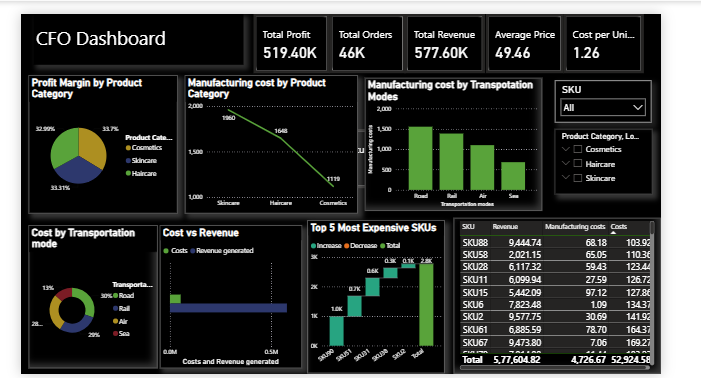

This screenshot's page, from the dashboard's own definition file:
{"tool":"powerbi","page":{"name":"CFO","canvas":[1280,720],"ordinal":1},"visuals":[{"type":"cardVisual","fields":{"Data":["_Measure.Average Price"]},"box":[929,0,155.1,118],"z":0},{"type":"cardVisual","fields":{"Data":["_Measure.Total Manufacturing Cost"]},"box":[527.1,230,241.4,118.6],"z":1000},{"type":"cardVisual","fields":{"Data":["_Measure.Total Revenue"]},"box":[768.4,0,160.5,118],"z":2000},{"type":"cardVisual","fields":{"Data":["_Measure.Total Profit"]},"box":[464.3,0,152.9,118.6],"z":3000},{"type":"textbox","box":[25.7,0,420,101.4],"z":4000},{"type":"slicer","fields":{"Values":["Data Cleaning.Product Category","Data Cleaning.Location","Data Cleaning.Customer demographics"]},"box":[1068.3,230,195,130],"z":5000},{"type":"lineChart","title":"Manufacturing cost by Product Category","fields":{"Category":["Data Cleaning.Product Category"],"Y":["Sum(Data Cleaning.Manufacturing costs)"]},"box":[328.3,121.7,346.7,276.7],"z":6000},{"type":"donutChart","title":"Cost by Transportation mode","fields":{"Y":["Sum(Data Cleaning.Costs)"],"Category":["Data Cleaning.Transportation modes"]},"box":[15,421.7,258.3,286.7],"z":7000},{"type":"pieChart","title":"Profit Margin by Product Category","fields":{"Category":["Data Cleaning.Product Category"],"Y":["_Measure.Profit Margin %"]},"box":[15,121.7,298.3,276.7],"z":8000},{"type":"waterfallChart","title":"Top 5 Most Expensive SKUs ","fields":{"Category":["Data Cleaning.SKU"],"Y":["Sum(Data Cleaning.Costs)"]},"box":[573.3,411.7,275,306.7],"z":9000},{"type":"lineStackedColumnComboChart","title":"Manufacturing cost by Transpotation Modes","fields":{"Y":["Sum(Data Cleaning.Manufacturing costs)"],"Category":["Data Cleaning.Transportation modes"]},"box":[688.3,126.7,355,266.7],"z":10000},{"type":"cardVisual","fields":{"Data":["_Measure.Cost per Unit Sold"]},"box":[1084.1,0,160.5,118],"z":11000},{"type":"clusteredBarChart","title":"Cost vs Revenue","fields":{"Y":["Sum(Data Cleaning.Costs)","Sum(Data Cleaning.Revenue generated)"]},"box":[276.7,421.7,285,286.7],"z":12000},{"type":"slicer","fields":{"Values":["Data Cleaning.SKU"]},"box":[1066.7,131.7,193.3,85],"z":13000},{"type":"tableEx","fields":{"Values":["Data Cleaning.SKU","Sum(Data Cleaning.Revenue generated)","Sum(Data Cleaning.Manufacturing costs)","Sum(Data Cleaning.Costs)"]},"box":[865,408.3,415,311.7],"z":14000},{"type":"cardVisual","fields":{"Data":["_Measure.Total Orders"]},"box":[617.1,0,151.4,118.6],"z":15000}]}

Visuals, with their boxes on the page's 1280x720 design canvas (x1, y1, x2, y2). These are canvas units, not pixel positions in the 701x378 screenshot, which may show the page scaled, cropped or inside an application window:
cardVisual - _Measure.Average Price: {"left": 929, "top": 0, "right": 1084, "bottom": 118}
cardVisual - _Measure.Total Manufacturing Cost: {"left": 527, "top": 230, "right": 768, "bottom": 349}
cardVisual - _Measure.Total Revenue: {"left": 768, "top": 0, "right": 929, "bottom": 118}
cardVisual - _Measure.Total Profit: {"left": 464, "top": 0, "right": 617, "bottom": 119}
textbox: {"left": 26, "top": 0, "right": 446, "bottom": 101}
slicer - Data Cleaning.Product Category x Data Cleaning.Location: {"left": 1068, "top": 230, "right": 1263, "bottom": 360}
"Manufacturing cost by Product Category" lineChart: {"left": 328, "top": 122, "right": 675, "bottom": 398}
"Cost by Transportation mode" donutChart: {"left": 15, "top": 422, "right": 273, "bottom": 708}
"Profit Margin by Product Category" pieChart: {"left": 15, "top": 122, "right": 313, "bottom": 398}
"Top 5 Most Expensive SKUs " waterfallChart: {"left": 573, "top": 412, "right": 848, "bottom": 718}
"Manufacturing cost by Transpotation Modes" lineStackedColumnComboChart: {"left": 688, "top": 127, "right": 1043, "bottom": 393}
cardVisual - _Measure.Cost per Unit Sold: {"left": 1084, "top": 0, "right": 1245, "bottom": 118}
"Cost vs Revenue" clusteredBarChart: {"left": 277, "top": 422, "right": 562, "bottom": 708}
slicer - Data Cleaning.SKU: {"left": 1067, "top": 132, "right": 1260, "bottom": 217}
tableEx - Data Cleaning.SKU x Sum(Data Cleaning.Revenue generated): {"left": 865, "top": 408, "right": 1280, "bottom": 720}
cardVisual - _Measure.Total Orders: {"left": 617, "top": 0, "right": 768, "bottom": 119}
